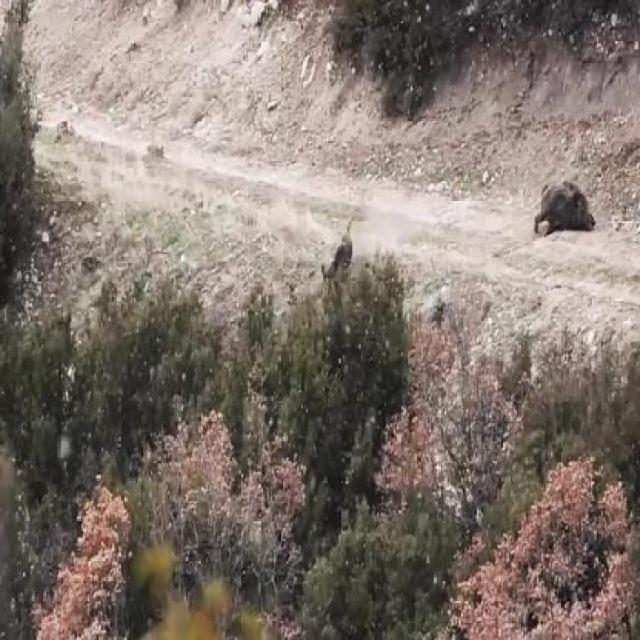pig: (523, 153, 588, 240)
